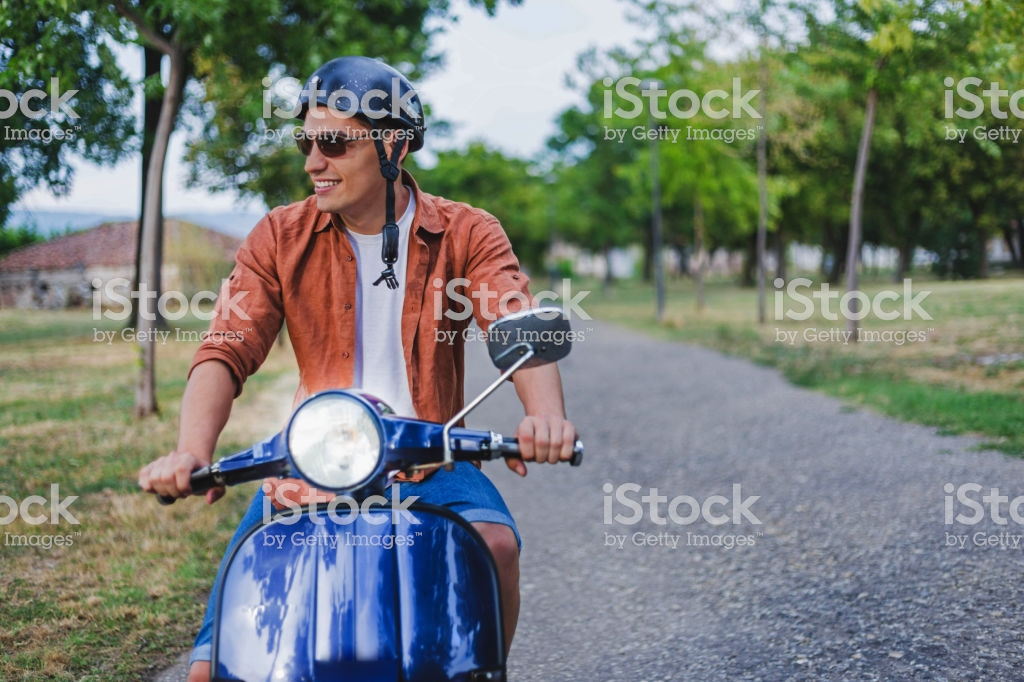helmet: (299, 46, 438, 149)
